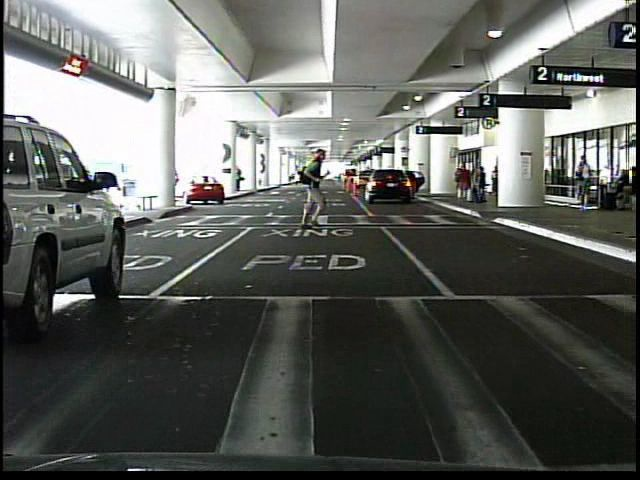person: (287, 147, 332, 228), (453, 159, 474, 201), (575, 157, 591, 211), (474, 166, 487, 201), (489, 165, 501, 194), (234, 164, 243, 190)
